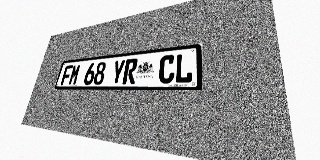6: (83, 62, 97, 85)
8: (92, 61, 107, 85)
C: (158, 54, 176, 84)
F: (60, 65, 73, 85)
L: (174, 53, 193, 83)
M: (68, 64, 81, 85)
R: (122, 58, 138, 84)
Y: (110, 59, 126, 84)
